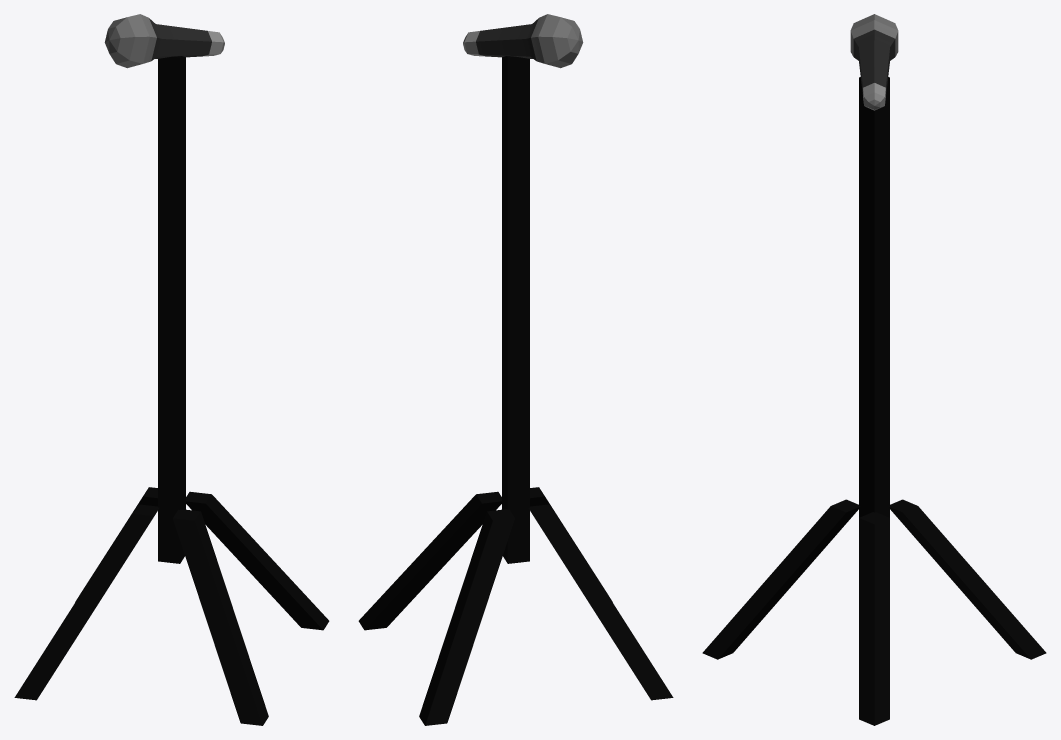
The model's file is obs_sm_microphone (2).fbx.
3 renders of one model, left to right at view 1: azimuth 30°, elevation 25°; view 2: azimuth 150°, elevation 25°; view 3: azimuth 270°, elevation 25°, orthographic. The views are drawn at different scales.
Visible parts, largest first — view 1: polySurface199, polySurface202, polySurface201, polySurface200, polySurface204; view 2: polySurface199, polySurface203, polySurface201, polySurface200, polySurface204; view 3: polySurface199, polySurface200, polySurface202, polySurface203, polySurface204.
Boxes of the visible parts, x1,y1,x2,y2 form: polySurface199: [158, 56, 185, 563]; polySurface202: [173, 509, 268, 725]; polySurface201: [14, 504, 159, 700]; polySurface200: [185, 491, 329, 630]; polySurface204: [104, 14, 224, 68]; polySurface199: [502, 56, 529, 563]; polySurface203: [419, 509, 514, 725]; polySurface201: [528, 504, 673, 700]; polySurface200: [358, 491, 502, 630]; polySurface204: [463, 14, 583, 68]; polySurface199: [859, 77, 889, 517]; polySurface200: [859, 512, 889, 725]; polySurface202: [702, 499, 860, 659]; polySurface203: [888, 499, 1046, 659]; polySurface204: [850, 14, 898, 110].
Size of the model in its own units: 1.79 by 3.54 by 1.79.
